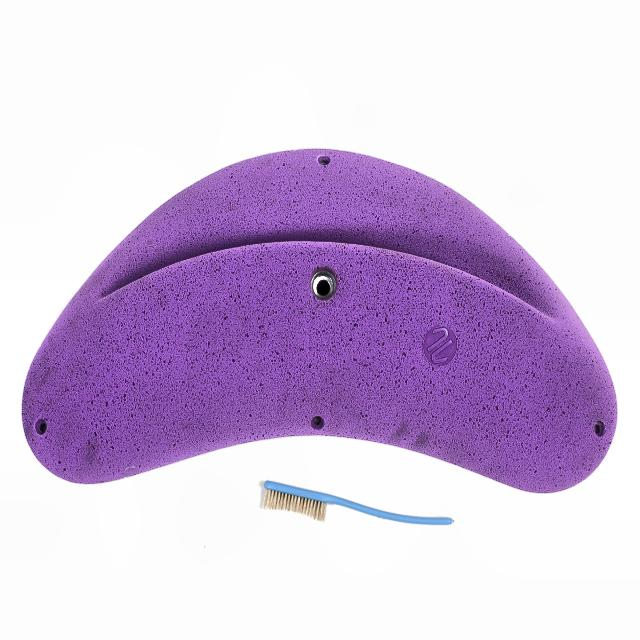Hold: (19, 144, 621, 492)
